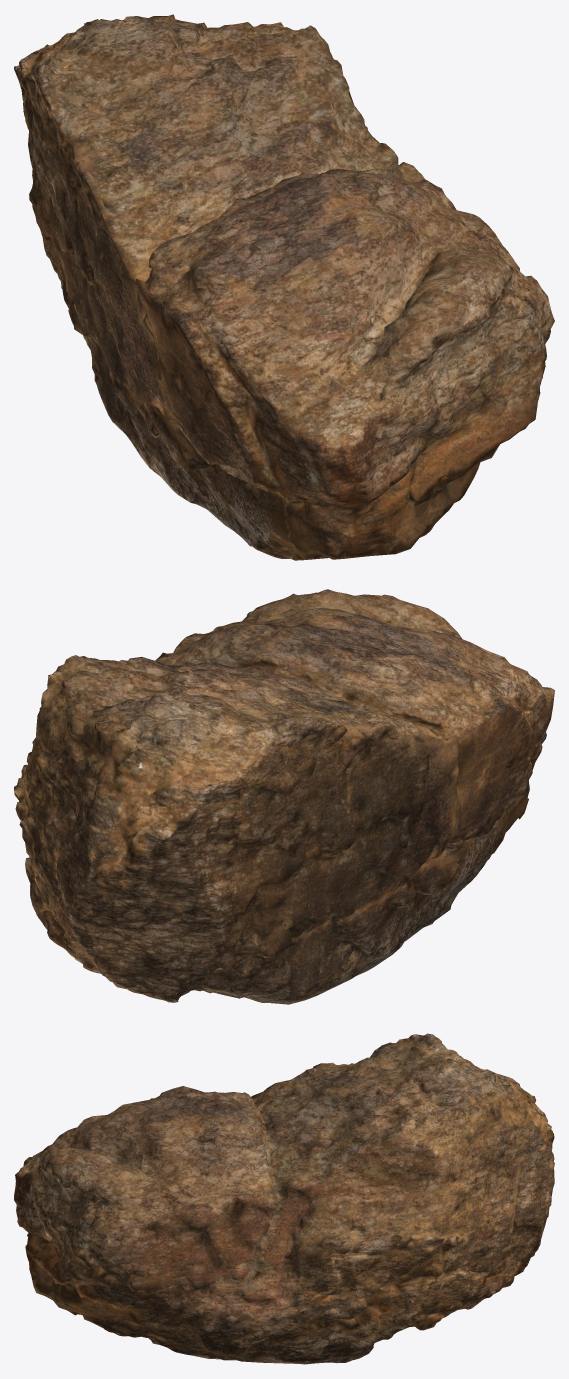
File: boulder-6.glb
The picture shows the model from 3 angles, top to bottom: view 1: azimuth 30°, elevation 25°; view 2: azimuth 150°, elevation 25°; view 3: azimuth 270°, elevation 25°; orthographic projection. The views are drawn at different scales.
Parts seen in each view (by area): view 1: namaqualand_boulder_06; view 2: namaqualand_boulder_06; view 3: namaqualand_boulder_06.
Part boxes in pixels (<box>): namaqualand_boulder_06: <box>14,14,554,560</box>; namaqualand_boulder_06: <box>14,589,554,1004</box>; namaqualand_boulder_06: <box>14,1033,554,1364</box>.
Bounding box in the file's own units: 0.6747 × 0.6511 × 1.21.
Materials: 1 (1 with a texture image).
